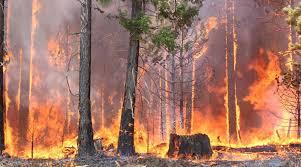fire: (133, 15, 300, 155), (3, 1, 76, 158), (88, 109, 120, 153)
